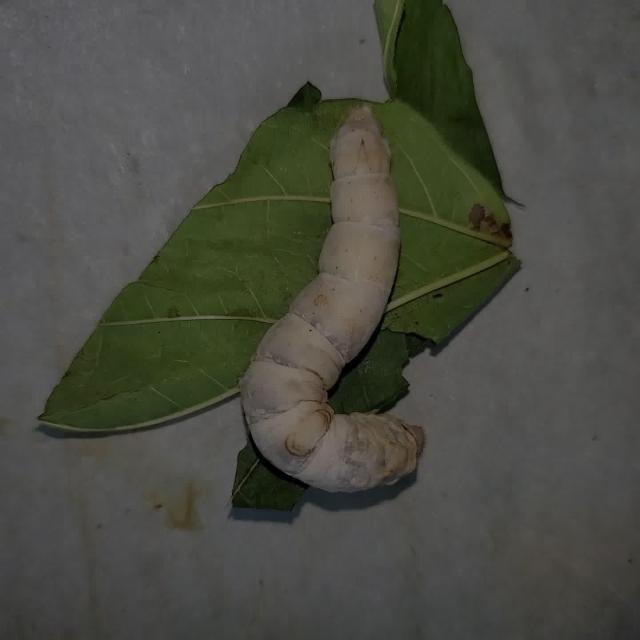Grasserie: (211, 107, 467, 504)
